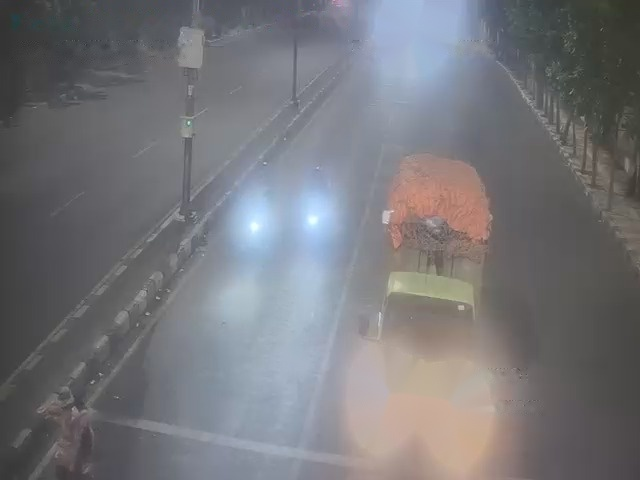Motor: (247, 158, 278, 246), (302, 173, 336, 238)
Truk: (390, 147, 500, 438)
